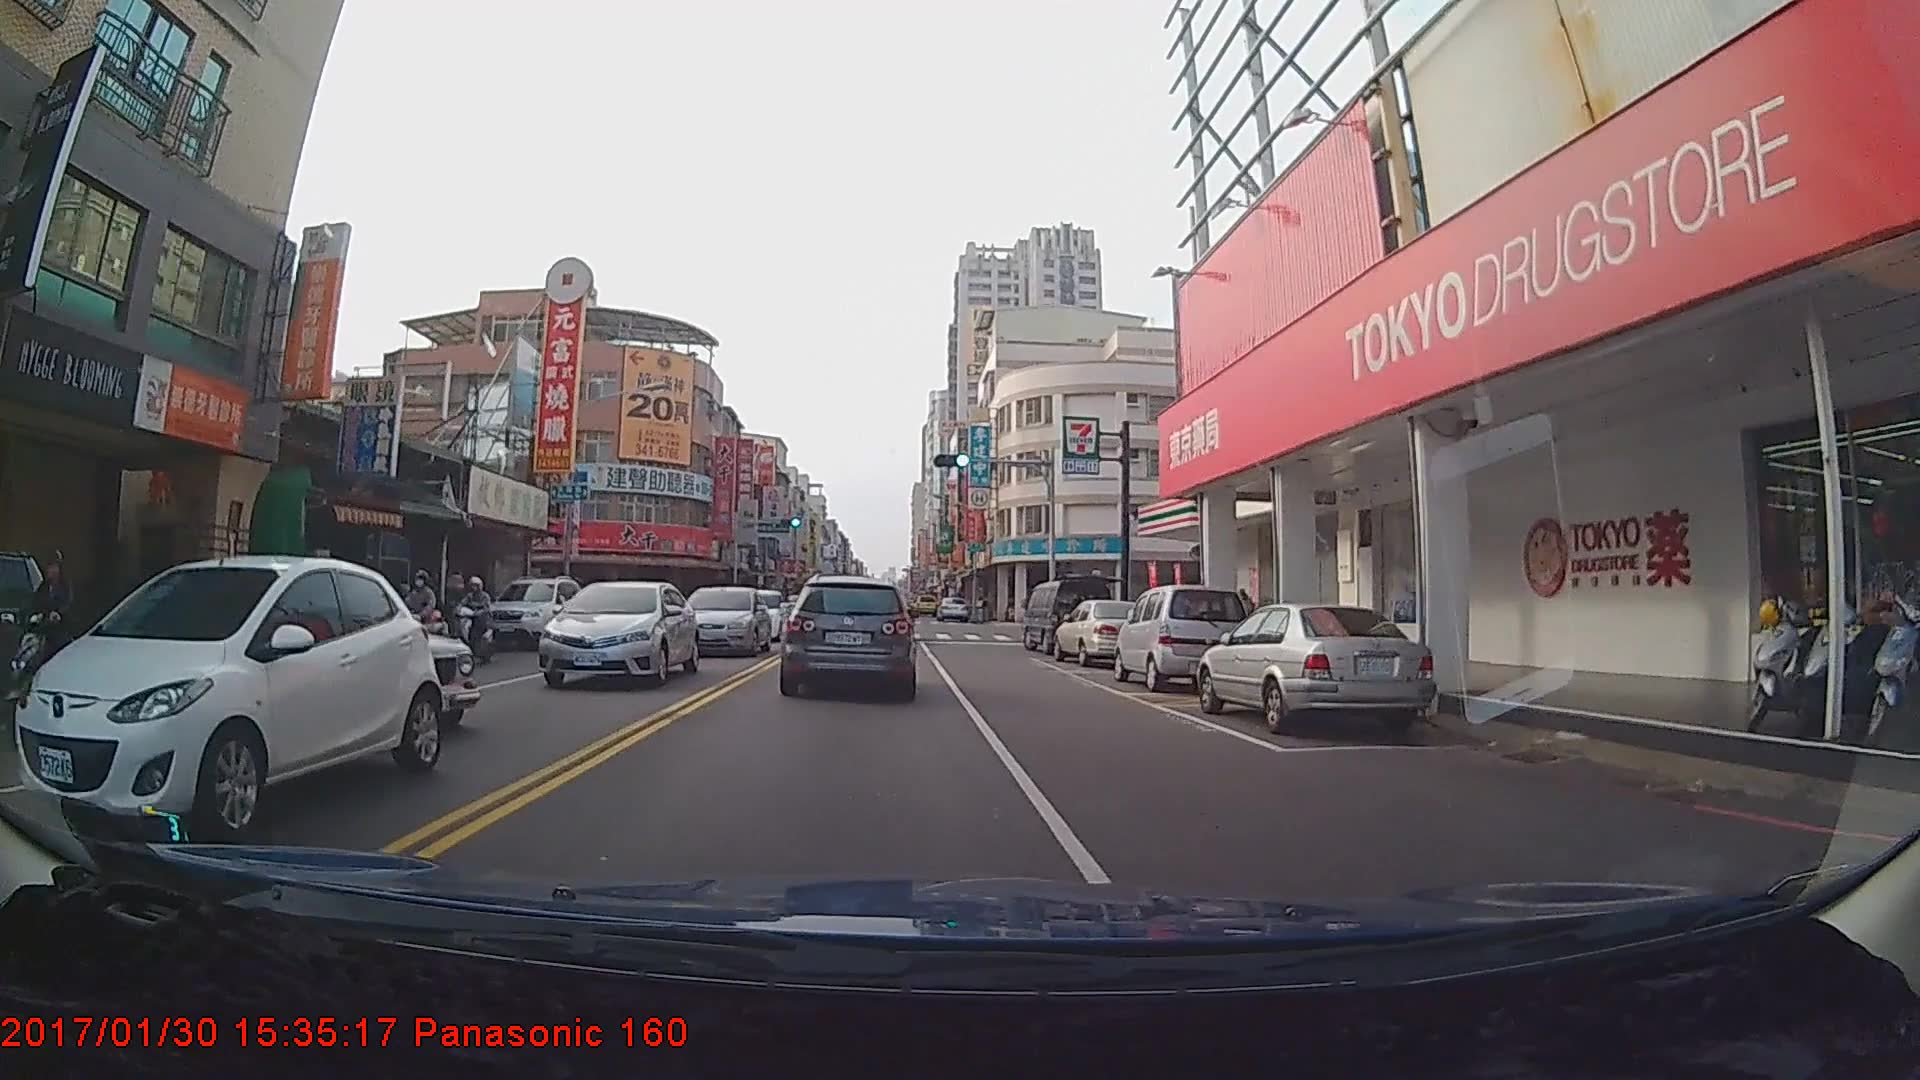rider: (1, 549, 82, 722)
vehicle: (13, 551, 441, 839), (1199, 599, 1432, 738), (530, 582, 689, 694), (785, 576, 914, 697), (1113, 586, 1251, 692), (480, 573, 582, 647), (1022, 578, 1112, 656), (677, 584, 771, 657), (1053, 601, 1152, 668), (934, 594, 969, 619)
